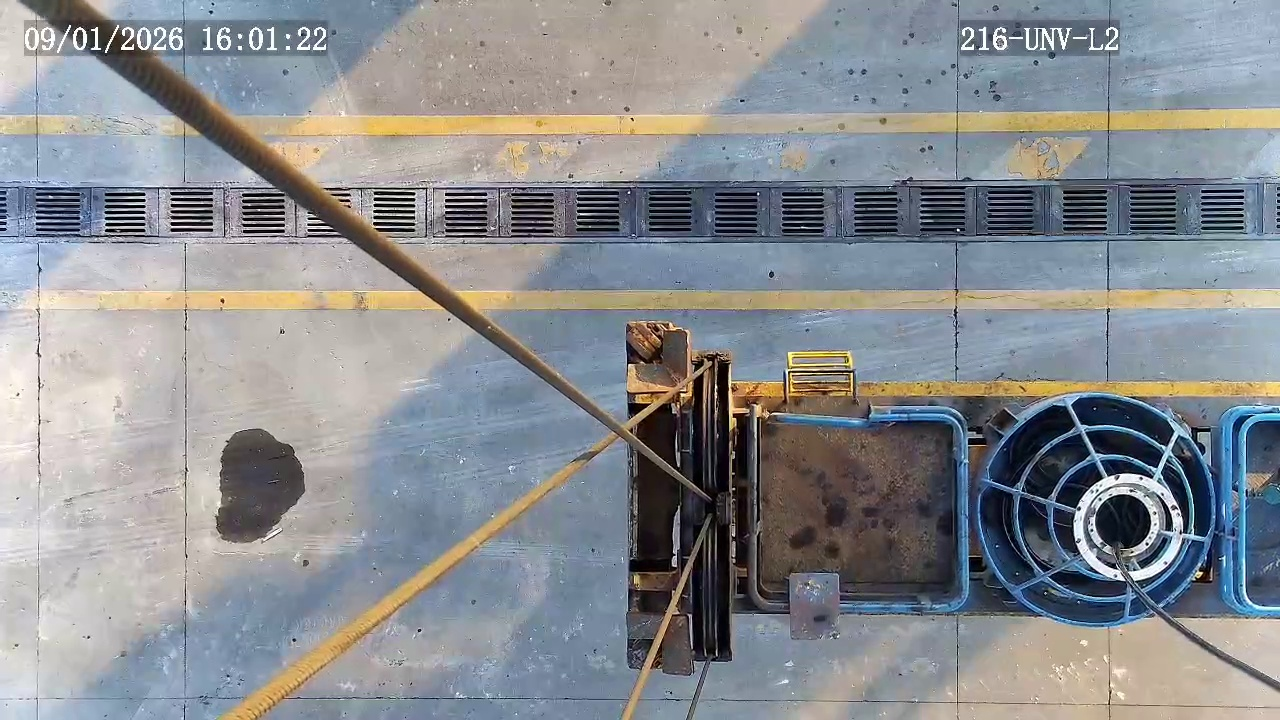left: (1073, 474, 1186, 582)
